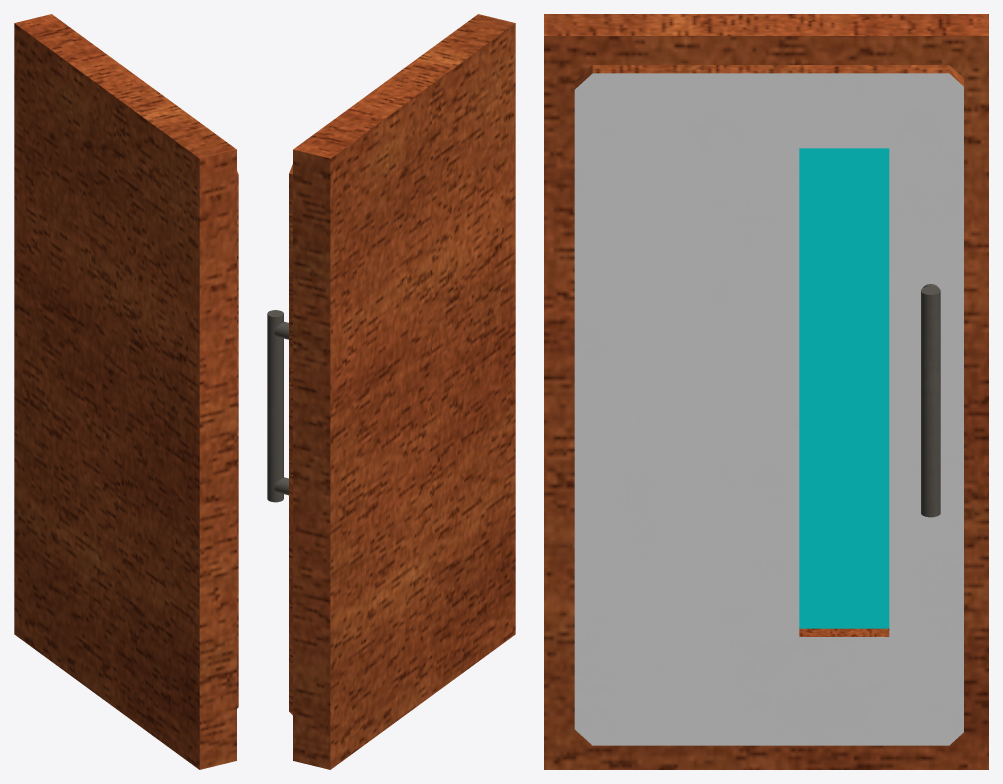
The model's file is door2.fbx.
The picture shows the model from 3 angles, left to right: view 1: azimuth 30°, elevation 25°; view 2: azimuth 150°, elevation 25°; view 3: azimuth 270°, elevation 25°; orthographic projection. The views are drawn at different scales.
Parts seen in each view (by area): view 1: Door; view 2: Door, pCylinder2; view 3: Door, pCylinder2.
Part boxes in pixels (x1,y1,x2,y2): Door: (14, 14, 238, 769); Door: (289, 14, 515, 769); pCylinder2: (267, 310, 283, 502); Door: (544, 14, 988, 769); pCylinder2: (921, 286, 940, 517).
Bounding box in the file's own units: 2.83 × 19.19 × 10.53.
3 materials, 2 textured.
